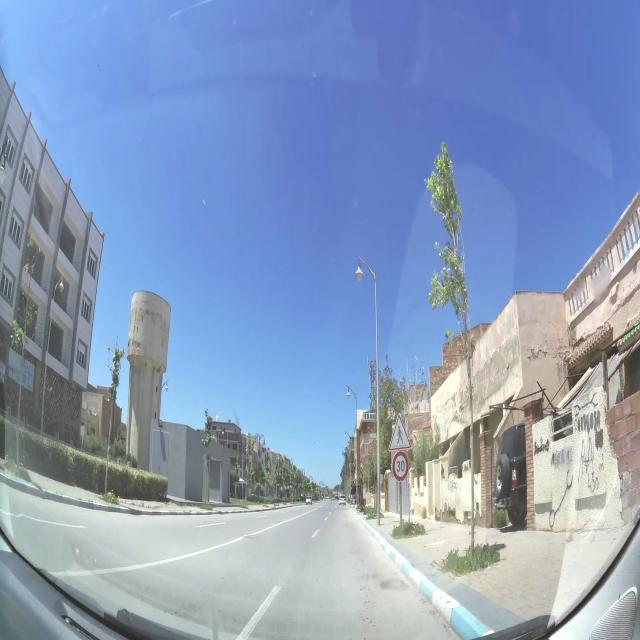car: (495, 425, 529, 529), (338, 493, 346, 505), (305, 495, 313, 505)
